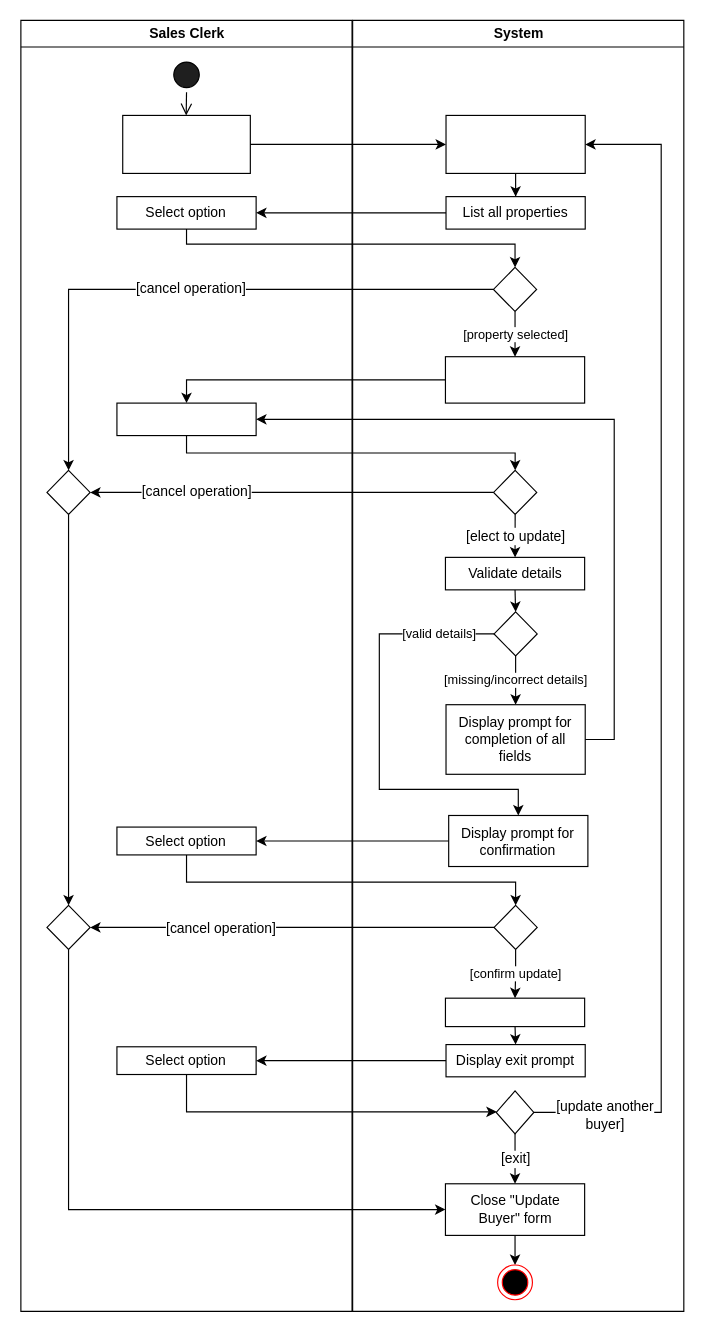
The diagram is 704 pixels wide and 1332 high, and some of its shapes have lost their labels. The shapes that lost their labels are listed below. From the top down, each one's centre as x and y in pixels, then its label:
(x=186, y=143): Select "Update Property" option
(x=515, y=143): Display "Update Property" form
(x=514, y=379): Display property details
(x=186, y=419): Update buyer details
(x=514, y=1012): Save buyer details
